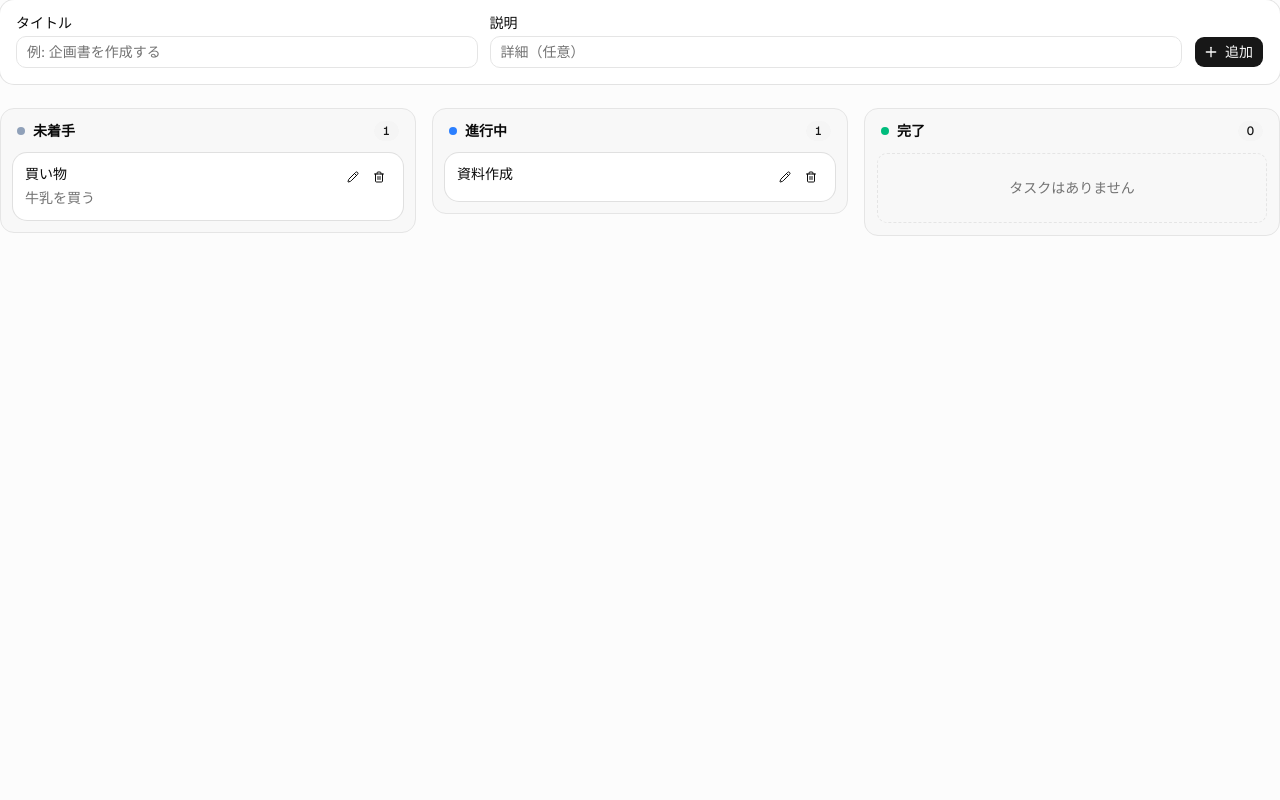
Test: 削除 › 削除ボタンを押すと対象のタイトルを含む確認ダイアログが表示される
The image size is (1280, 800).
Click the button named "削除" in the row of "買い物": (379, 177) [367, 165, 391, 189]
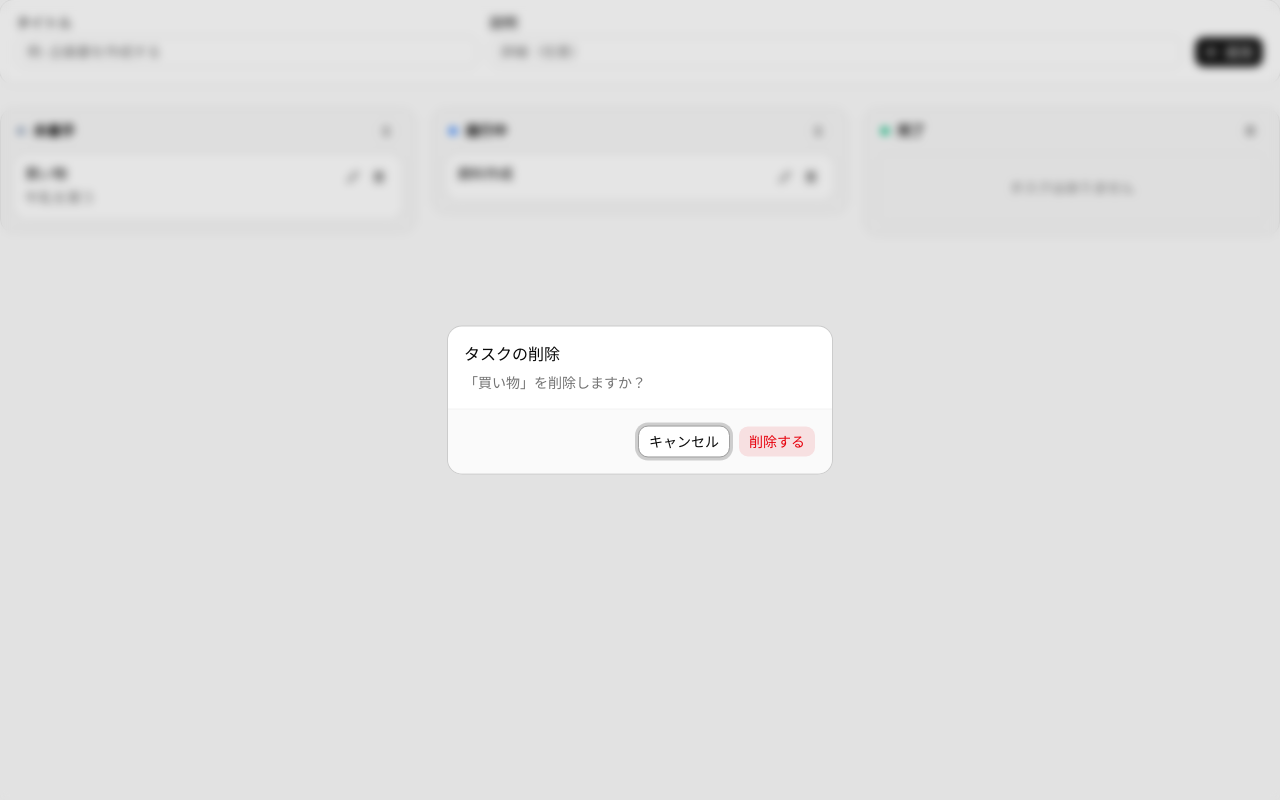
Expected: the text "「買い物」を削除しますか？" is shown, [464, 372, 646, 392]
